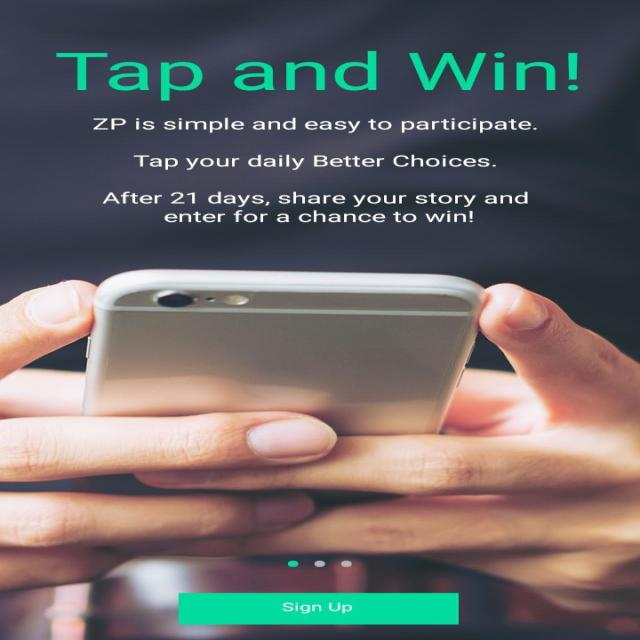BackgroundImage: (0, 0, 639, 639)
Text: (56, 51, 577, 100), (100, 190, 528, 222), (92, 117, 537, 134), (132, 154, 496, 170)
TextButton: (177, 592, 459, 624)
